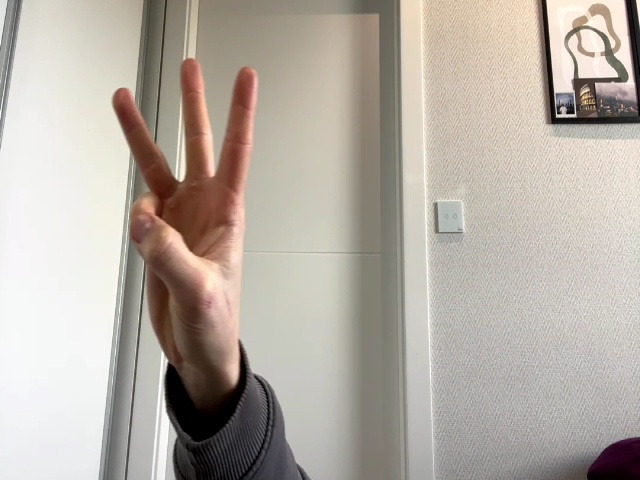W: (114, 58, 258, 366)
